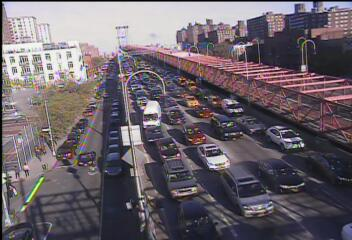neg: (292, 68, 310, 92), (310, 116, 328, 140), (296, 29, 313, 52), (137, 34, 154, 56), (118, 100, 132, 120), (192, 49, 206, 68), (20, 13, 34, 32), (253, 53, 266, 71), (259, 139, 271, 154), (32, 207, 42, 221), (68, 137, 78, 150), (103, 178, 111, 189), (120, 195, 128, 206), (241, 19, 249, 30), (81, 205, 87, 213), (86, 164, 92, 171), (108, 91, 113, 98)
pos: (29, 142, 45, 163), (10, 165, 23, 183), (19, 162, 29, 176)
